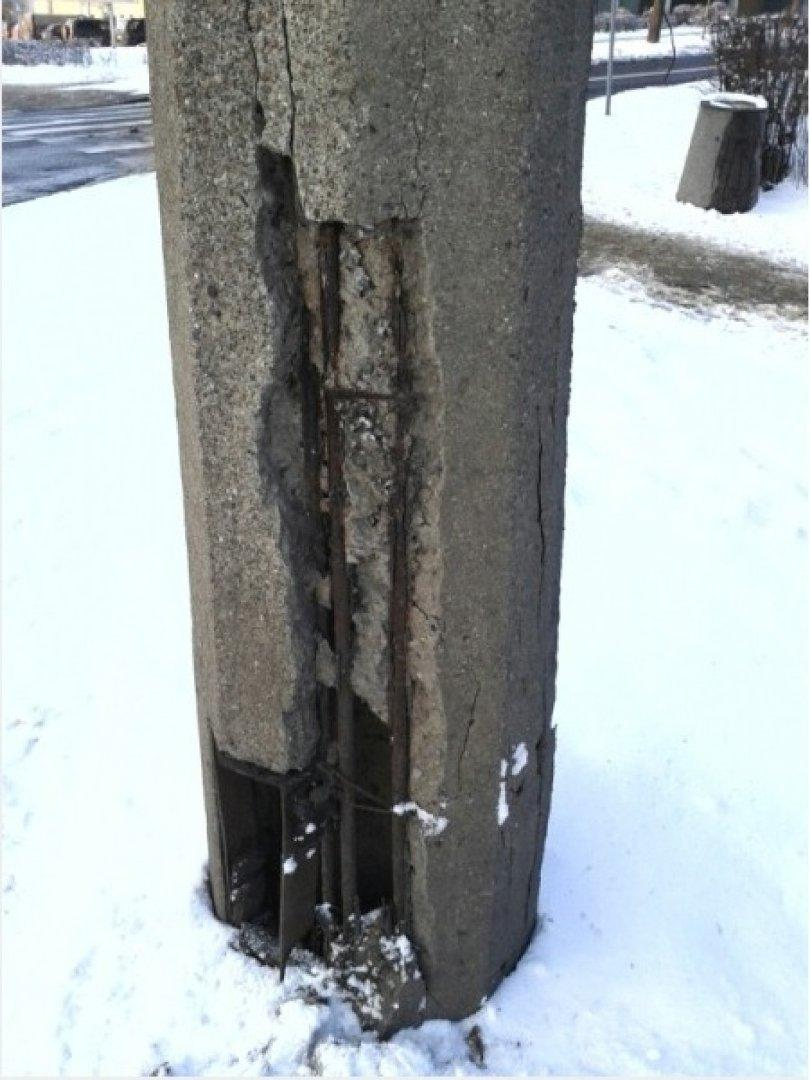exposed_rebar: (319, 221, 361, 921), (388, 245, 409, 927)
spalling: (210, 143, 448, 1019)
